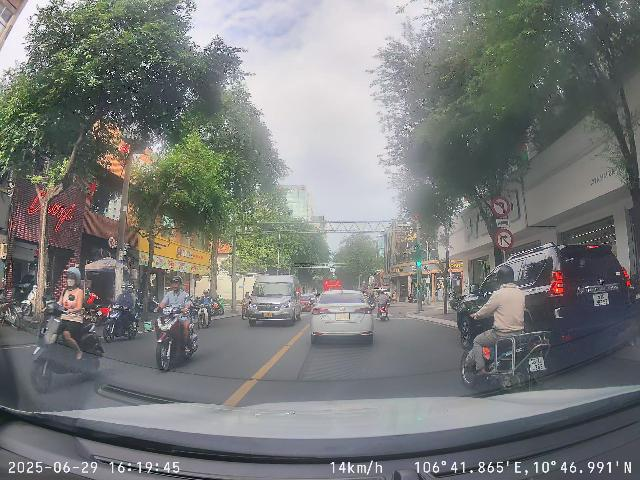123a-cam-re-trai: (491, 196, 511, 217)
123b-cam-re-phai: (495, 229, 514, 250)
